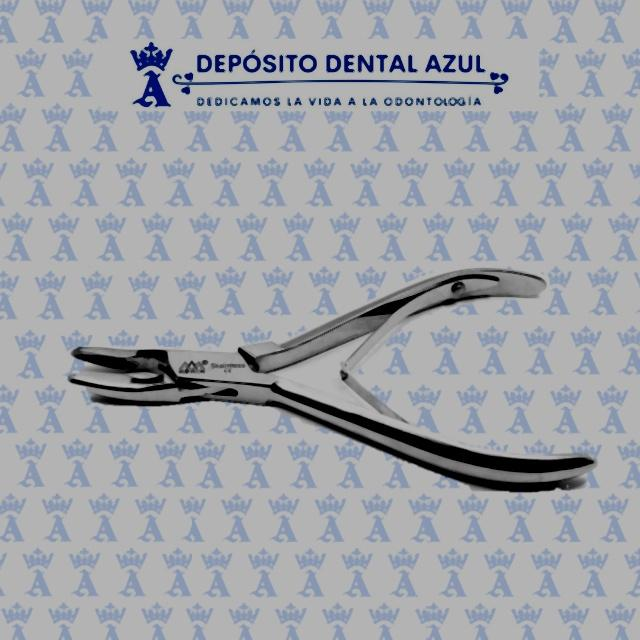gubia: (68, 265, 597, 495)
